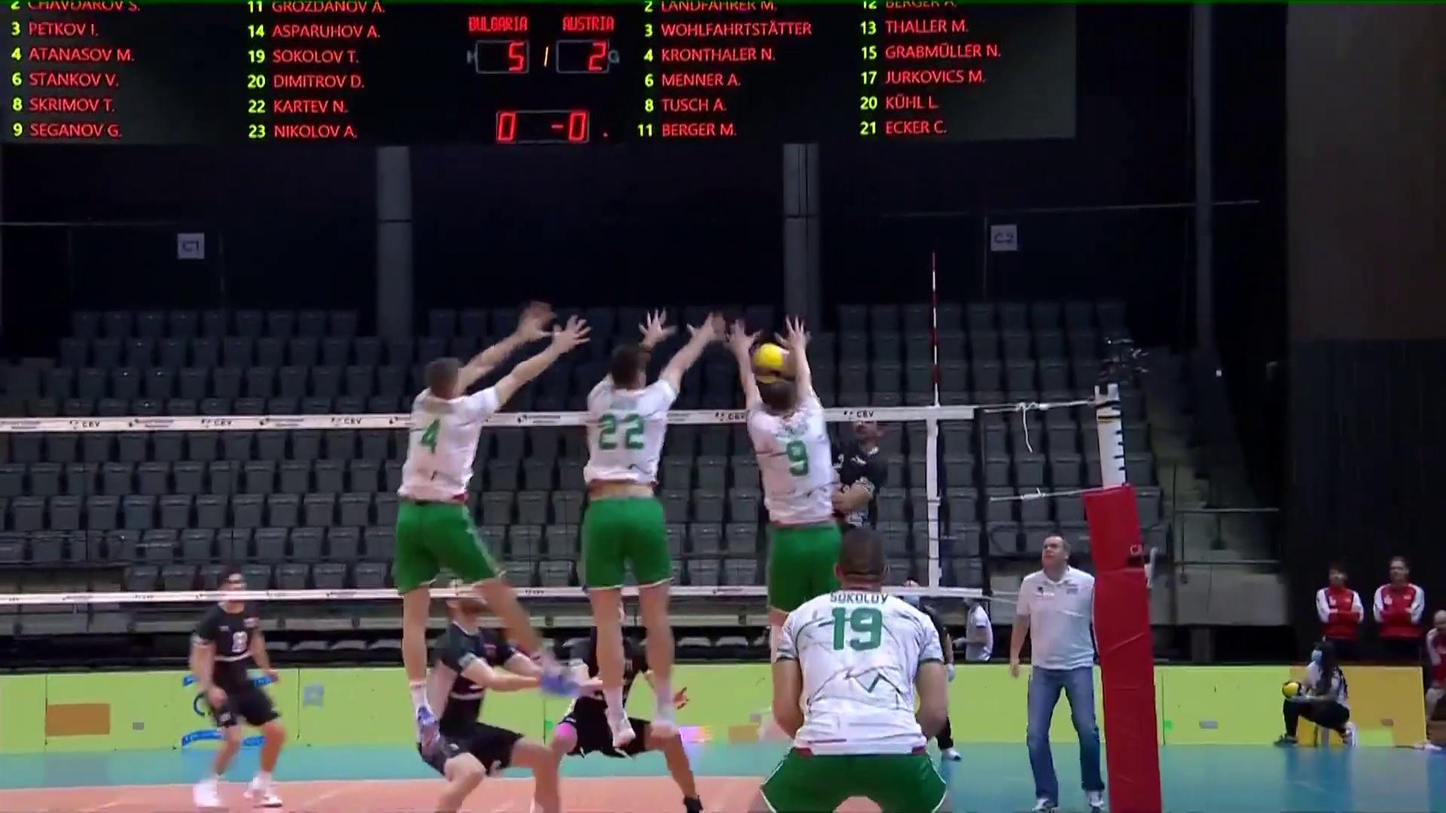ball: (752, 344, 789, 383)
